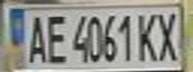0: (84, 11, 106, 63)
1: (115, 10, 136, 62)
4: (66, 11, 87, 64)
6: (103, 11, 121, 63)
A: (21, 10, 48, 65)
E: (42, 11, 69, 64)
K: (136, 10, 160, 63)
X: (154, 8, 181, 62)
